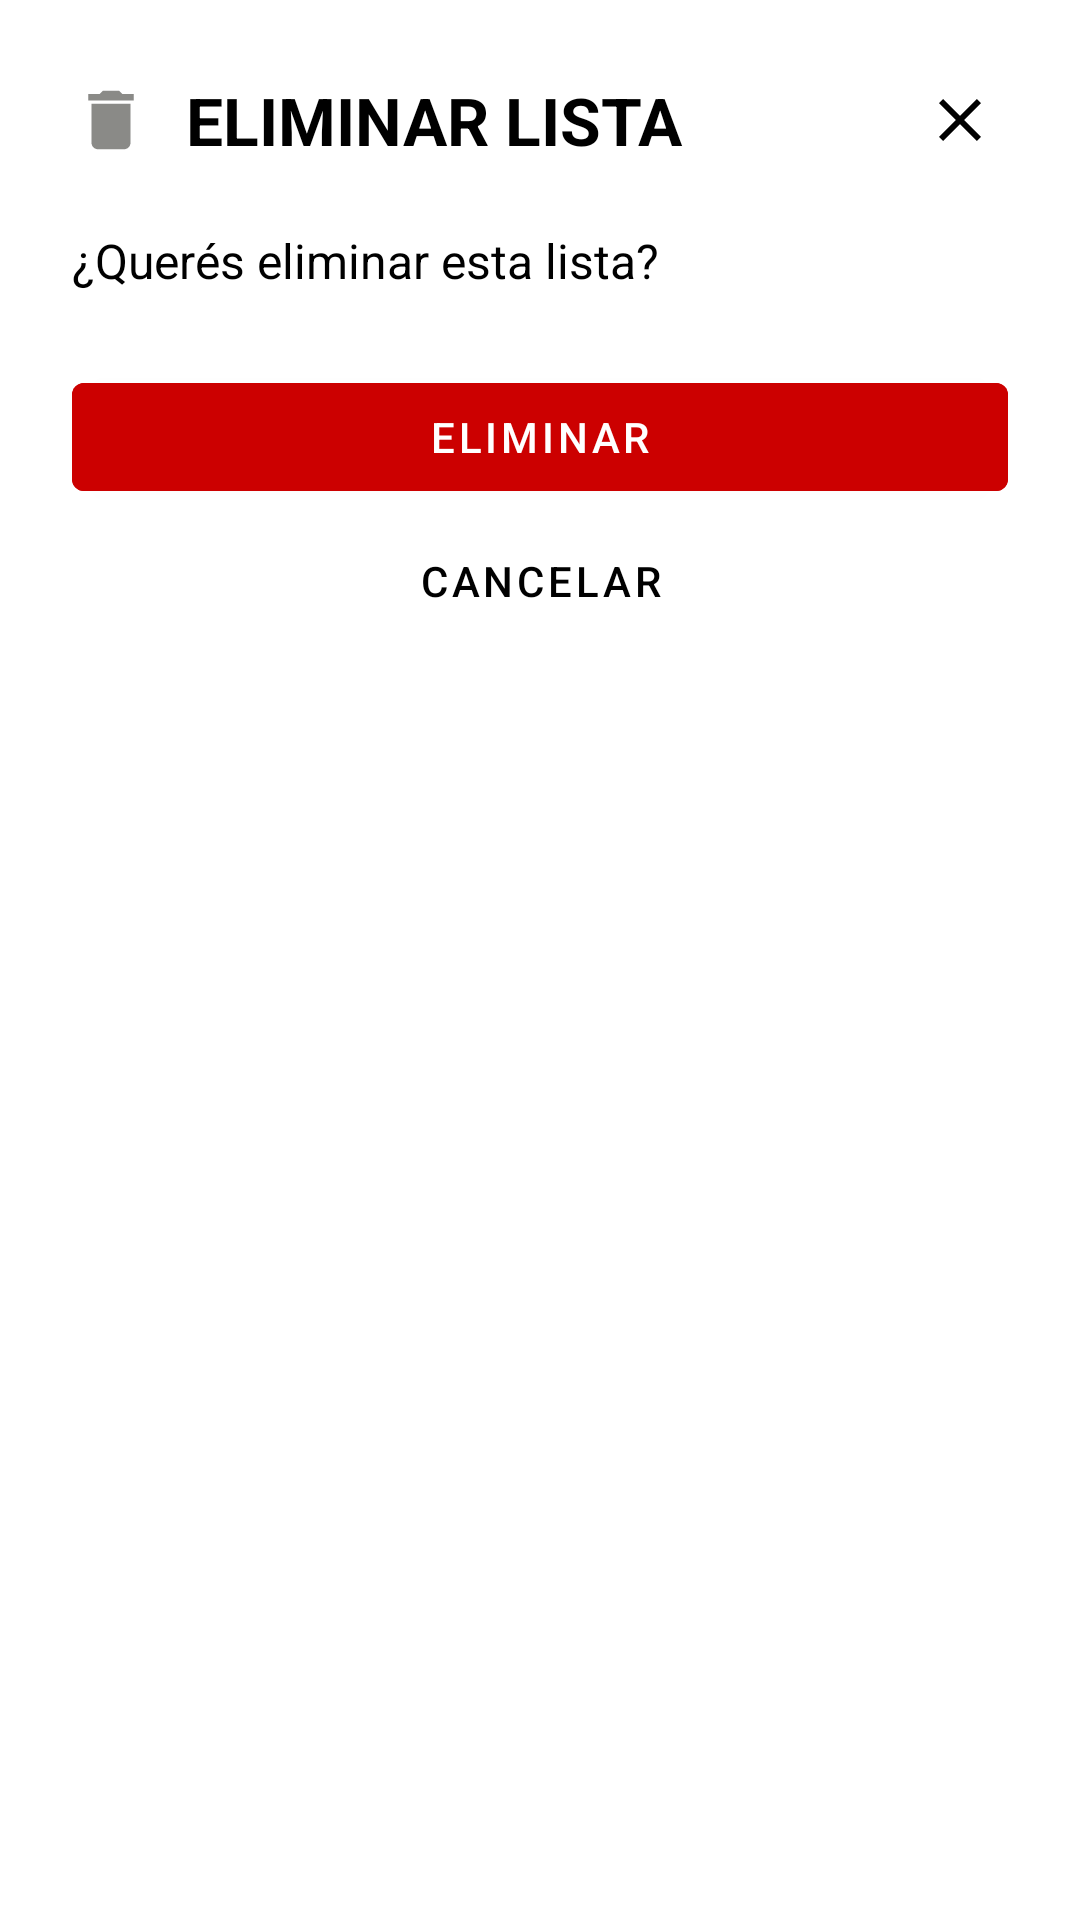

Locate icon controls on the screen. Image size 1080 x 1920, boxes as bbox(x1, y1, x2, y2).
close: bbox(939, 99, 981, 141)
delete: bbox(88, 90, 134, 150)
